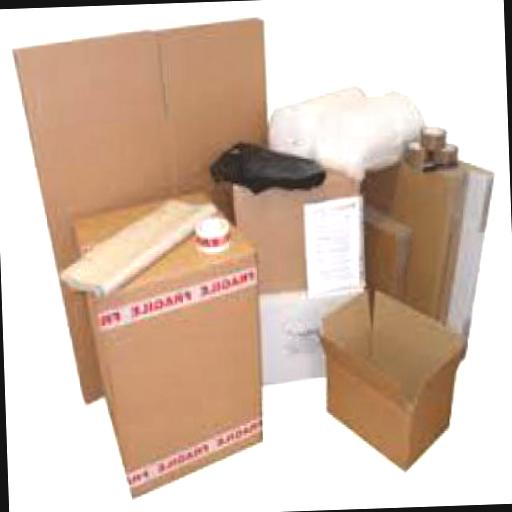cardboard: (10, 12, 279, 402), (73, 182, 268, 501), (360, 120, 501, 364), (218, 166, 368, 385), (320, 282, 472, 472)
